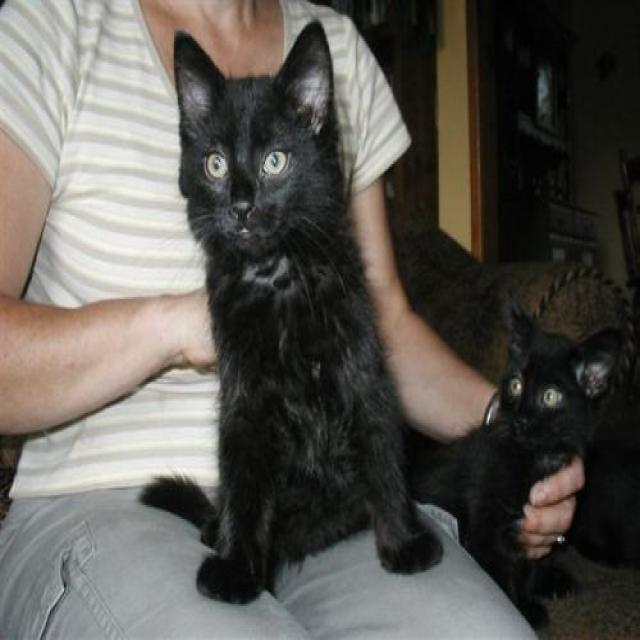Cats: (137, 17, 443, 604), (402, 295, 626, 630)
